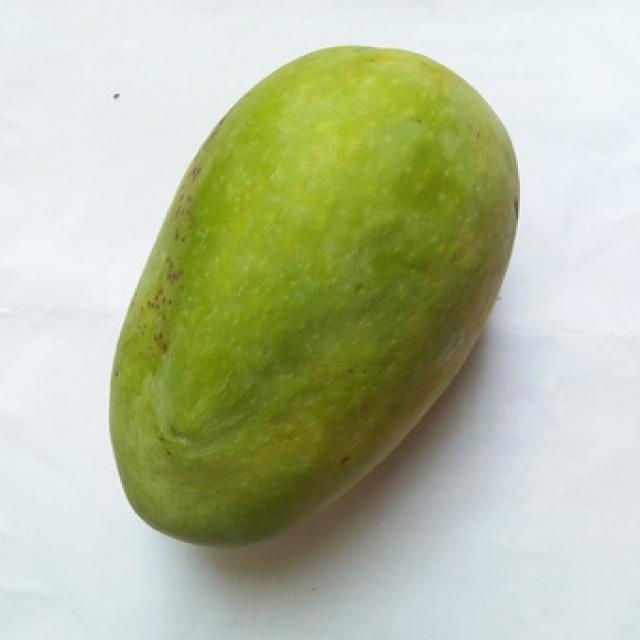Mango: (109, 47, 518, 543)
